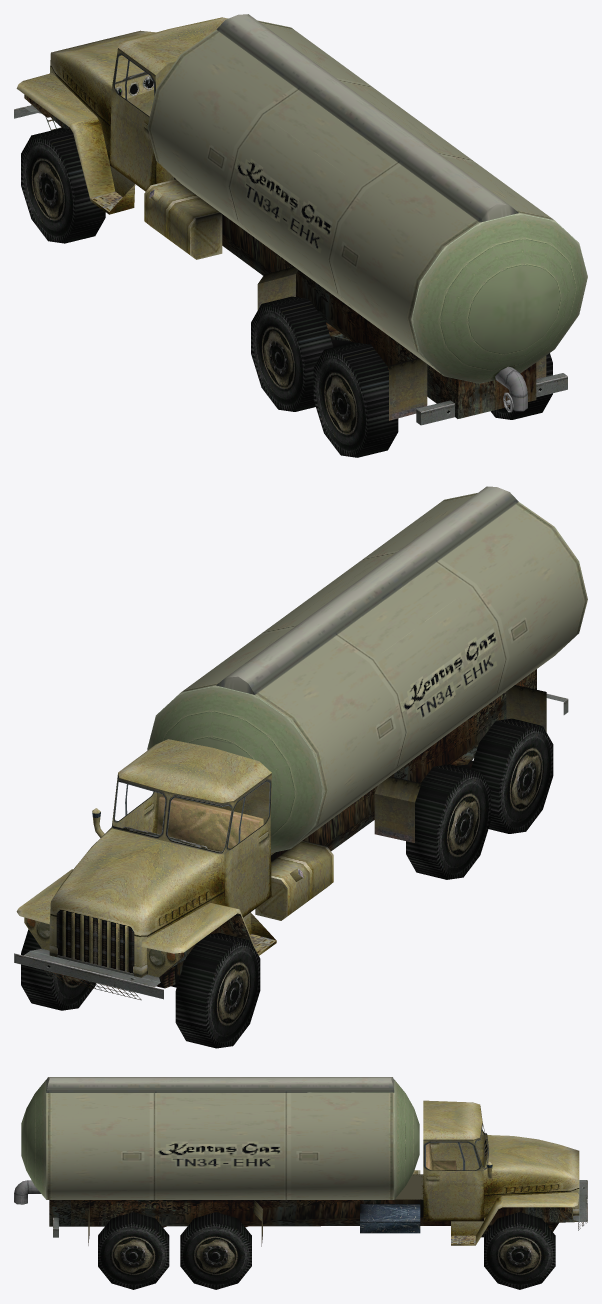
Rendered from FUEL_TRUCK01.glb.
3 views of the same model, one above another, from view 1: azimuth 30°, elevation 25°; view 2: azimuth 150°, elevation 25°; view 3: azimuth 270°, elevation 25° (orthographic). The views are drawn at different scales.
Parts seen in each view (by area): view 1: URAL375_CLOSED, LEFT3, LEFT2, LEFT1, RIGHT3; view 2: URAL375_CLOSED, LEFT1, LEFT2, LEFT3, RIGHT1; view 3: URAL375_CLOSED, RIGHT2, RIGHT1, RIGHT3.
Boxes of the visible parts, box(x1,y1,x2,y2) form: URAL375_CLOSED: box(14, 14, 587, 425); LEFT3: box(313, 342, 398, 457); LEFT2: box(251, 296, 333, 411); LEFT1: box(21, 128, 105, 243); RIGHT3: box(491, 353, 552, 419); URAL375_CLOSED: box(14, 486, 587, 1000); LEFT1: box(175, 933, 260, 1048); LEFT2: box(406, 764, 490, 879); LEFT3: box(471, 718, 553, 833); RIGHT1: box(21, 929, 95, 1010); URAL375_CLOSED: box(14, 1077, 587, 1246); RIGHT2: box(180, 1212, 251, 1289); RIGHT1: box(484, 1212, 555, 1289); RIGHT3: box(98, 1212, 169, 1289).
Size of the model in its own units: 2.82 by 4.02 by 11.5.
Materials: 6 (5 with a texture image).
